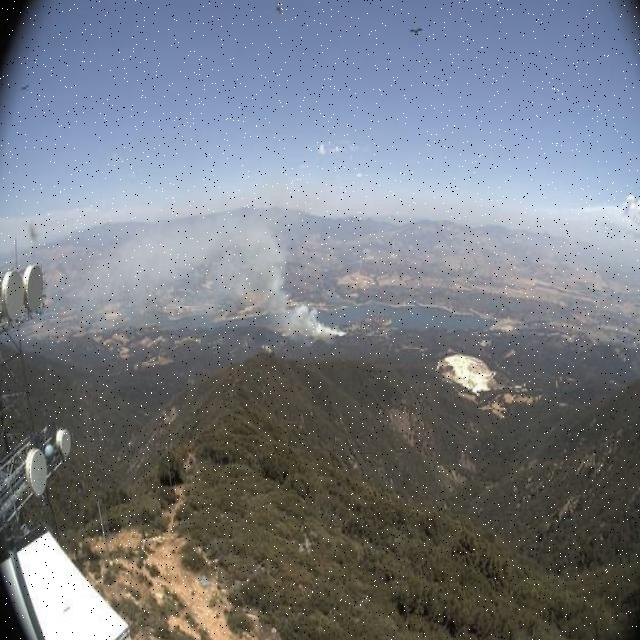smoke: (119, 210, 351, 343)
